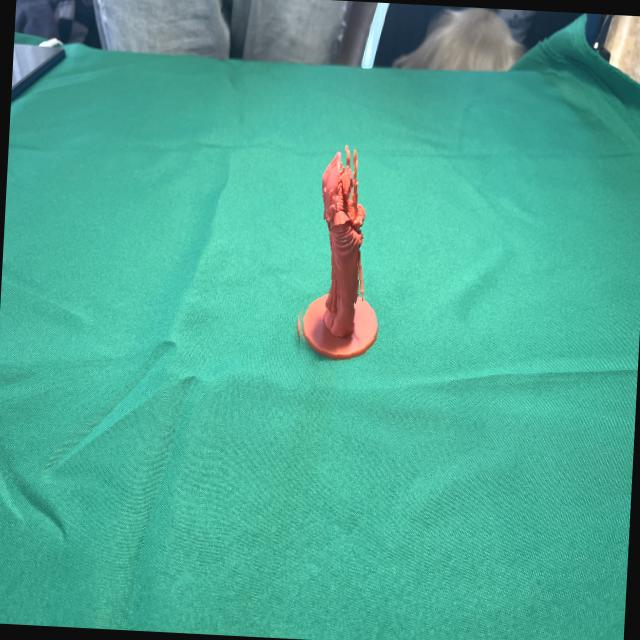amon: (288, 138, 388, 364)
